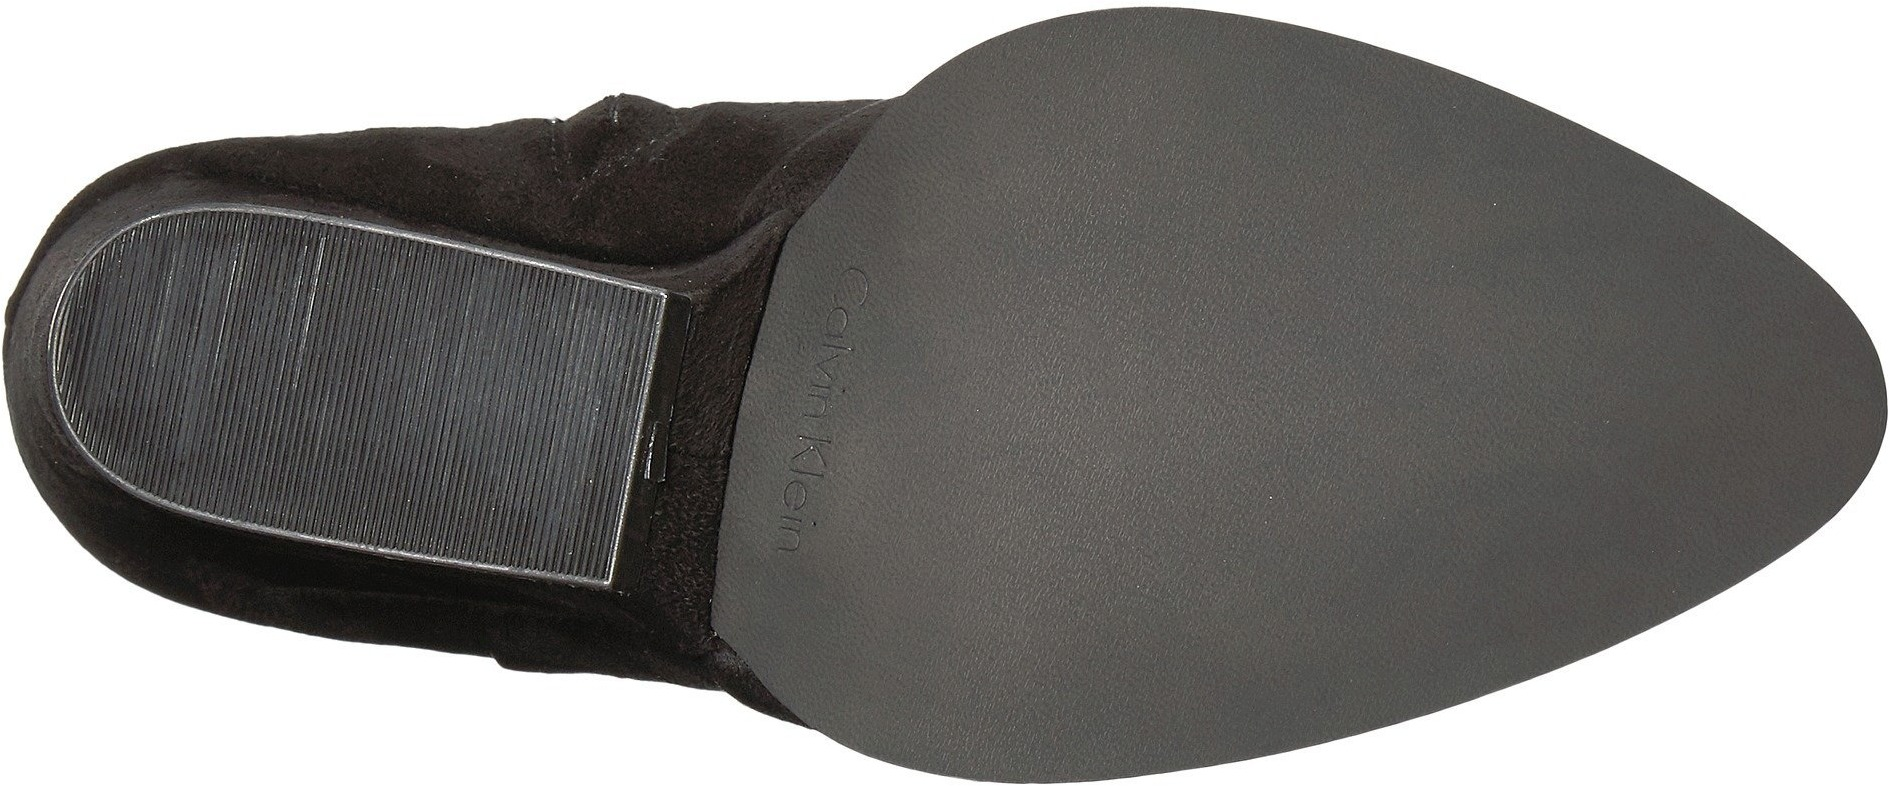other: (1361, 219, 1739, 573), (956, 379, 1323, 728), (959, 75, 1351, 360), (303, 282, 565, 539), (93, 258, 294, 480)
text: (804, 251, 933, 392), (793, 392, 923, 473), (762, 469, 855, 576)
